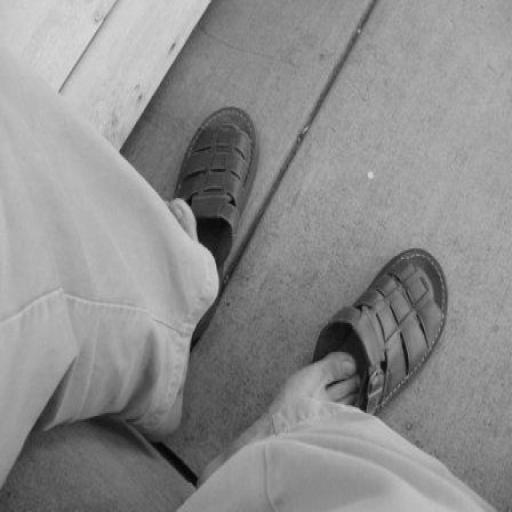flip-flop: (313, 248, 448, 413), (175, 107, 257, 346), (175, 107, 257, 274)
